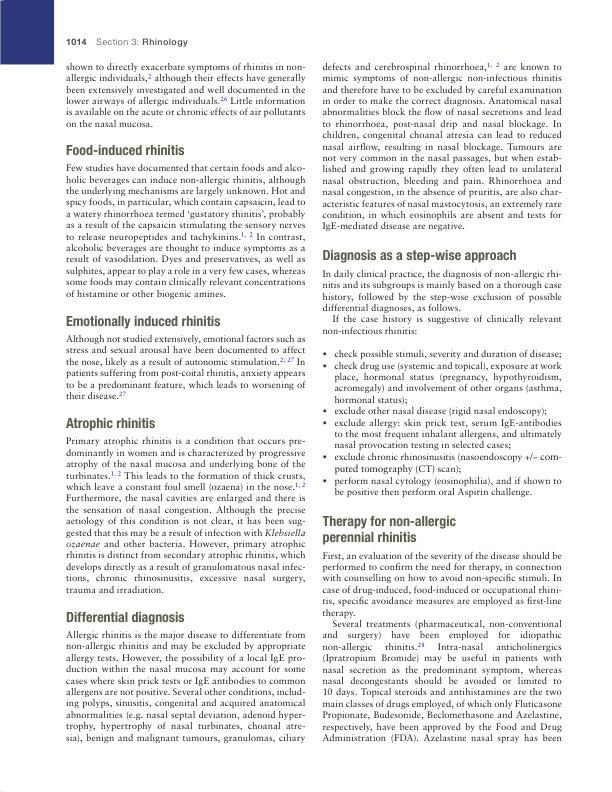header: (95, 36, 189, 48)
list: (321, 348, 564, 500)
sub-section-heading: (321, 514, 456, 546), (321, 247, 517, 264), (65, 315, 220, 329), (66, 610, 185, 626), (65, 143, 186, 156), (64, 416, 157, 432)
text: (321, 550, 563, 745), (321, 62, 564, 232), (65, 435, 307, 594), (64, 162, 306, 301), (65, 629, 306, 745), (321, 267, 563, 337), (65, 333, 307, 401), (64, 61, 306, 128)
